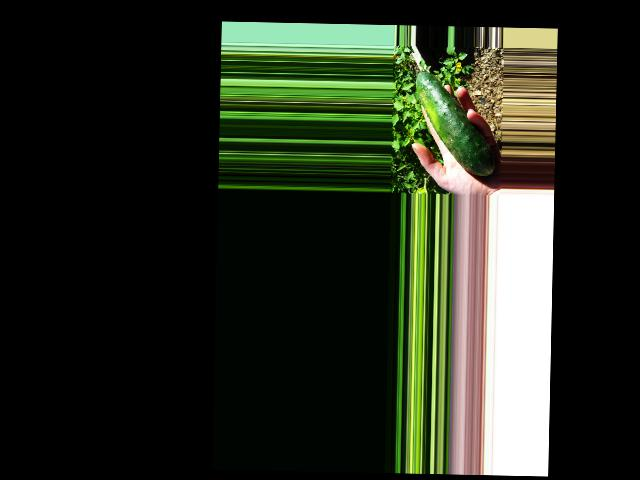cucumber: (414, 70, 496, 175)
